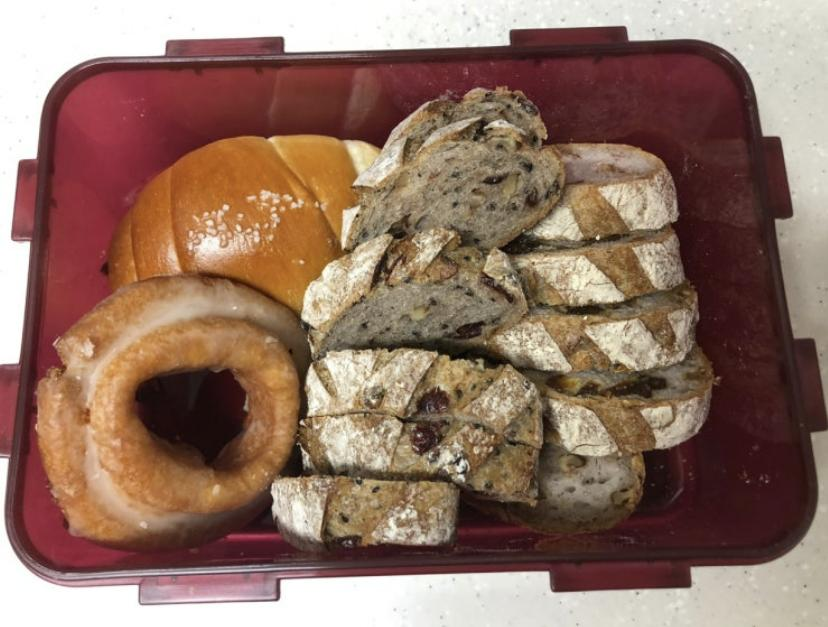Lunch Box: (0, 29, 825, 601)
